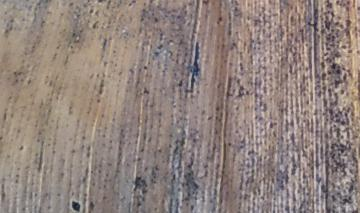tarspot: (183, 41, 201, 95), (2, 17, 16, 36), (225, 75, 236, 99), (69, 199, 83, 213), (132, 175, 142, 191), (306, 20, 319, 32), (228, 42, 241, 53), (323, 15, 331, 32), (237, 85, 245, 99), (267, 120, 278, 130), (190, 179, 200, 190), (343, 27, 352, 39), (86, 200, 94, 213), (341, 198, 354, 206), (344, 17, 353, 28), (126, 1, 140, 8), (345, 128, 352, 142), (85, 144, 91, 160), (141, 86, 150, 96), (90, 19, 99, 29), (16, 143, 25, 153), (38, 19, 47, 29), (346, 184, 354, 195), (179, 135, 186, 147), (329, 141, 338, 150), (176, 78, 184, 88), (215, 16, 223, 26), (237, 61, 244, 72), (324, 41, 331, 52), (156, 43, 164, 52), (152, 50, 160, 59), (327, 87, 333, 99), (324, 1, 333, 9), (334, 50, 342, 59), (191, 136, 198, 146), (324, 32, 331, 42), (338, 88, 346, 96), (319, 60, 327, 68), (70, 30, 77, 39), (26, 78, 33, 87), (233, 103, 240, 112), (205, 114, 214, 121), (158, 32, 164, 42), (283, 72, 289, 82), (135, 201, 143, 208), (329, 62, 337, 69), (303, 40, 310, 48), (339, 119, 347, 126), (330, 193, 337, 201), (289, 14, 294, 25), (200, 1, 209, 7), (335, 66, 341, 75), (88, 7, 94, 16), (214, 104, 220, 113), (327, 107, 333, 116), (235, 77, 241, 86), (338, 44, 347, 50), (342, 72, 347, 82), (156, 147, 163, 154), (95, 97, 102, 104), (138, 16, 145, 23), (338, 148, 345, 155), (325, 69, 332, 76), (80, 134, 87, 141), (148, 1, 160, 5), (175, 13, 181, 21), (70, 147, 76, 155), (111, 48, 117, 56), (338, 142, 346, 148), (189, 204, 195, 212), (67, 2, 75, 8), (304, 64, 310, 72), (322, 51, 330, 57), (244, 88, 250, 96), (305, 98, 311, 106), (142, 64, 148, 71), (153, 16, 159, 23), (226, 140, 232, 147), (354, 49, 360, 56), (233, 5, 238, 13), (333, 21, 341, 26), (330, 153, 336, 159), (69, 44, 74, 51), (96, 1, 107, 4), (356, 5, 360, 11), (1, 135, 5, 140)
